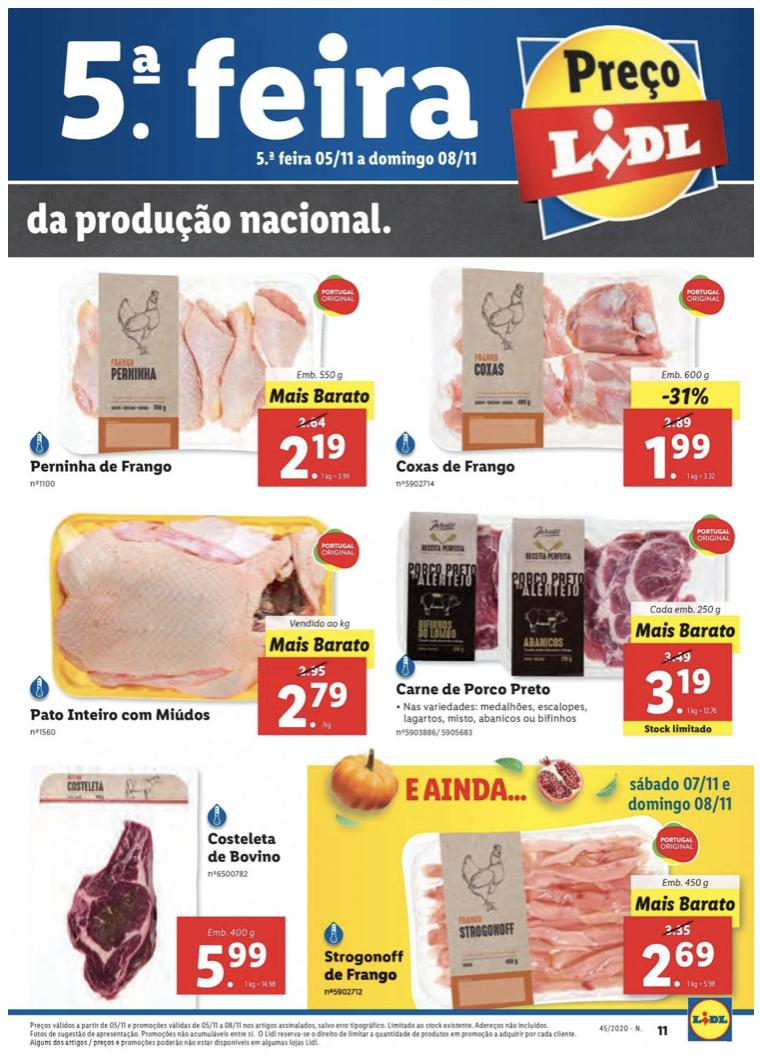name: (22, 704, 218, 728), (27, 455, 176, 480), (319, 946, 410, 985), (392, 454, 523, 481), (390, 679, 555, 699), (201, 829, 285, 868)
price: (274, 679, 356, 733), (193, 937, 273, 991), (642, 663, 717, 718), (278, 430, 352, 483), (643, 941, 715, 992), (647, 433, 710, 483)
product: (11, 497, 381, 746), (384, 492, 738, 749), (11, 258, 388, 497), (305, 813, 752, 1010), (384, 267, 739, 492), (13, 743, 293, 1003)
promotion: (656, 383, 713, 408)
